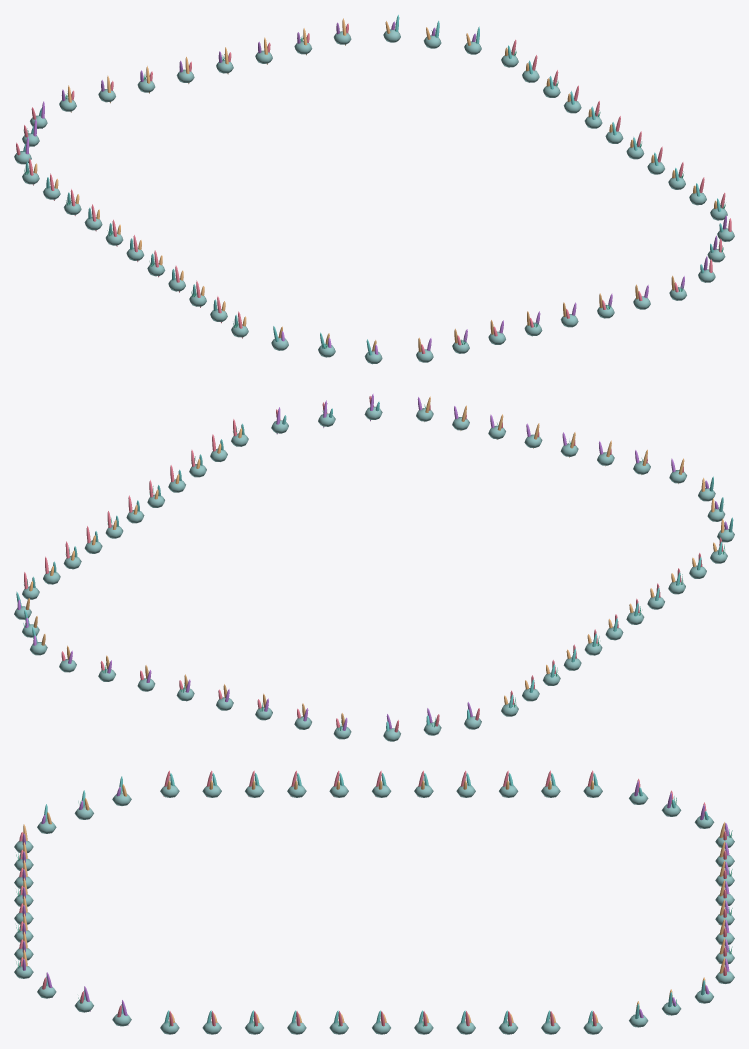
File: reef-22-B6JSkDQk.glb
3 views of the same model, one above another, from view 1: azimuth 30°, elevation 25°; view 2: azimuth 150°, elevation 25°; view 3: azimuth 270°, elevation 25° (orthographic).
Visible parts, largest first — view 1: ReefRock, Coral0, Coral2, Coral3, Coral1; view 2: ReefRock, Coral2, Coral0, Coral3, Coral1; view 3: ReefRock, Coral0, Coral2, Coral3, Coral1.
Boxes of the visible parts, x1=… form: ReefRock: x1=14, y1=29, x2=734, y2=363; Coral0: x1=16, y1=23, x2=731, y2=353; Coral2: x1=33, y1=18, x2=717, y2=352; Coral3: x1=23, y1=14, x2=723, y2=364; Coral1: x1=25, y1=21, x2=726, y2=354; ReefRock: x1=14, y1=406, x2=734, y2=741; Coral2: x1=25, y1=396, x2=724, y2=726; Coral0: x1=24, y1=396, x2=723, y2=732; Coral3: x1=16, y1=401, x2=733, y2=731; Coral1: x1=17, y1=393, x2=728, y2=730; ReefRock: x1=14, y1=784, x2=734, y2=1034; Coral0: x1=19, y1=770, x2=726, y2=1026; Coral2: x1=23, y1=780, x2=725, y2=1022; Coral3: x1=44, y1=773, x2=708, y2=1027; Coral1: x1=22, y1=781, x2=729, y2=1025.
Size of the model in its own units: 41 by 2.06 by 51.1.
